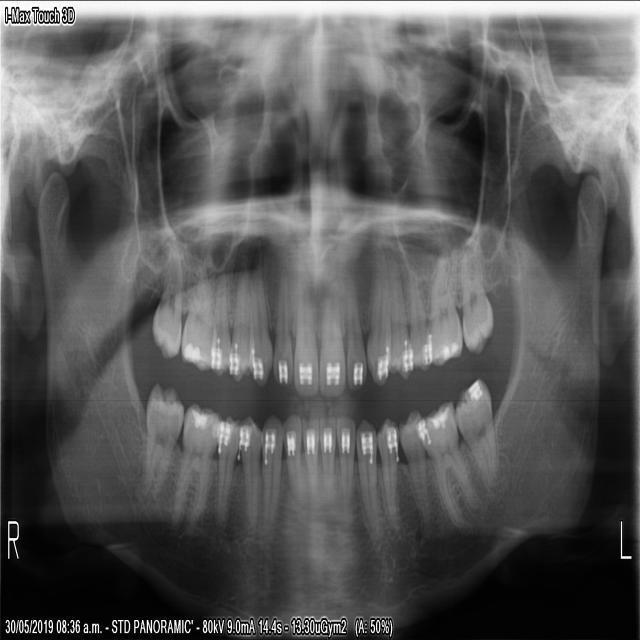LCD: (355, 414, 384, 539)
LCU: (365, 250, 390, 387)
LID: (335, 411, 354, 511), (318, 413, 335, 497)
LIU: (318, 270, 344, 398), (344, 264, 367, 391)
LMD: (421, 399, 485, 532), (454, 374, 499, 492)
LMU: (459, 233, 494, 356), (430, 248, 463, 368)
LPMD: (399, 404, 431, 522), (376, 413, 403, 533)
LPMU: (388, 256, 412, 381), (407, 265, 432, 373)
RCD: (260, 412, 282, 530)
RID: (282, 411, 302, 504), (301, 413, 318, 499)
RIU: (291, 265, 318, 398), (246, 263, 271, 388), (270, 265, 291, 390)
RMD: (166, 402, 221, 541), (136, 375, 184, 503)
RMU: (149, 241, 182, 363), (179, 270, 215, 373)
RPMD: (236, 412, 259, 528), (213, 414, 236, 530)
RPMU: (225, 261, 247, 386), (208, 267, 229, 378)
